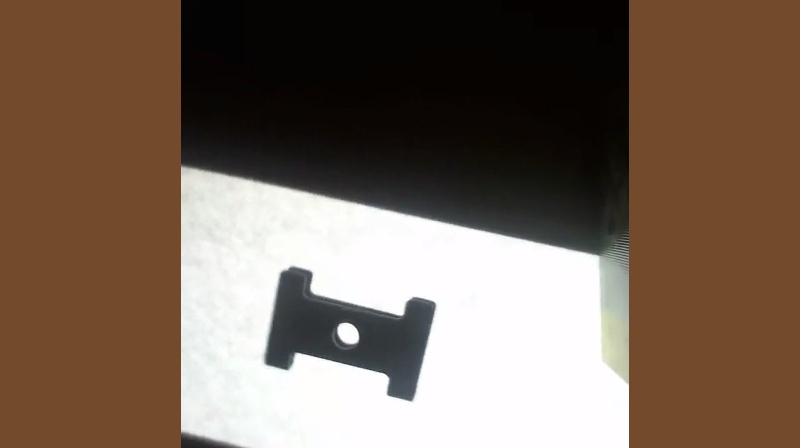O002: (262, 263, 439, 404)
